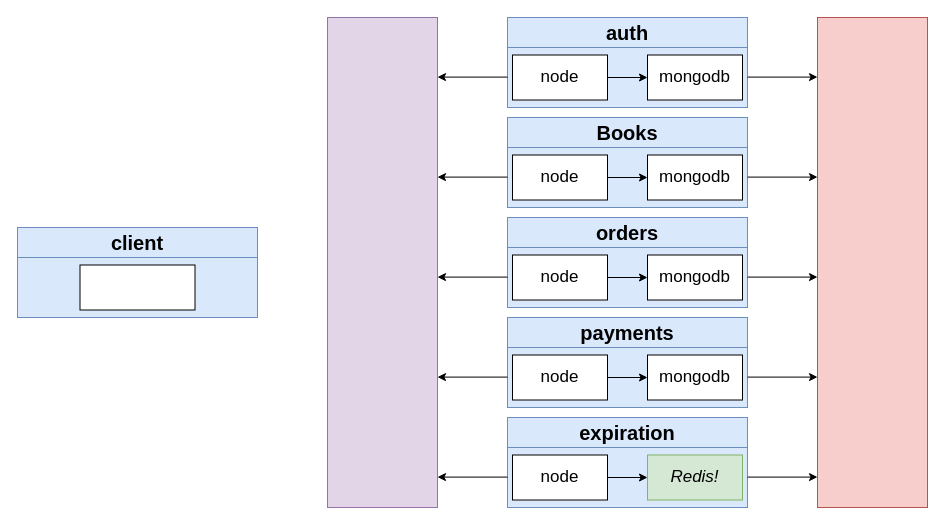
Image size: 945x525. Some labels were removed from this diagram. Each missing label, with the centre of its shape:
common: the point at 382,262
NATS Streaming Server: the point at 872,262
Next.JS: the point at 137,287
